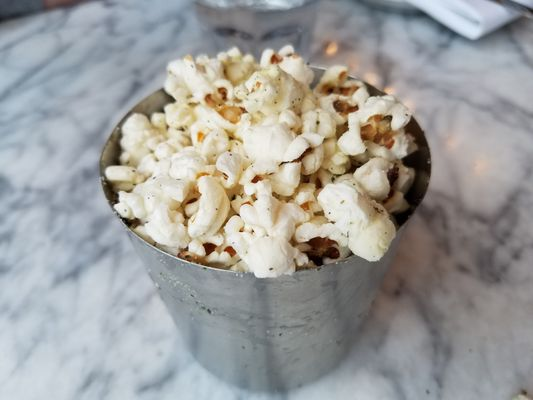sushi: (96, 28, 440, 396)
